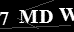7: (1, 11, 10, 26)
D: (38, 9, 54, 24)
M: (18, 9, 39, 24)
W: (58, 7, 74, 22)
